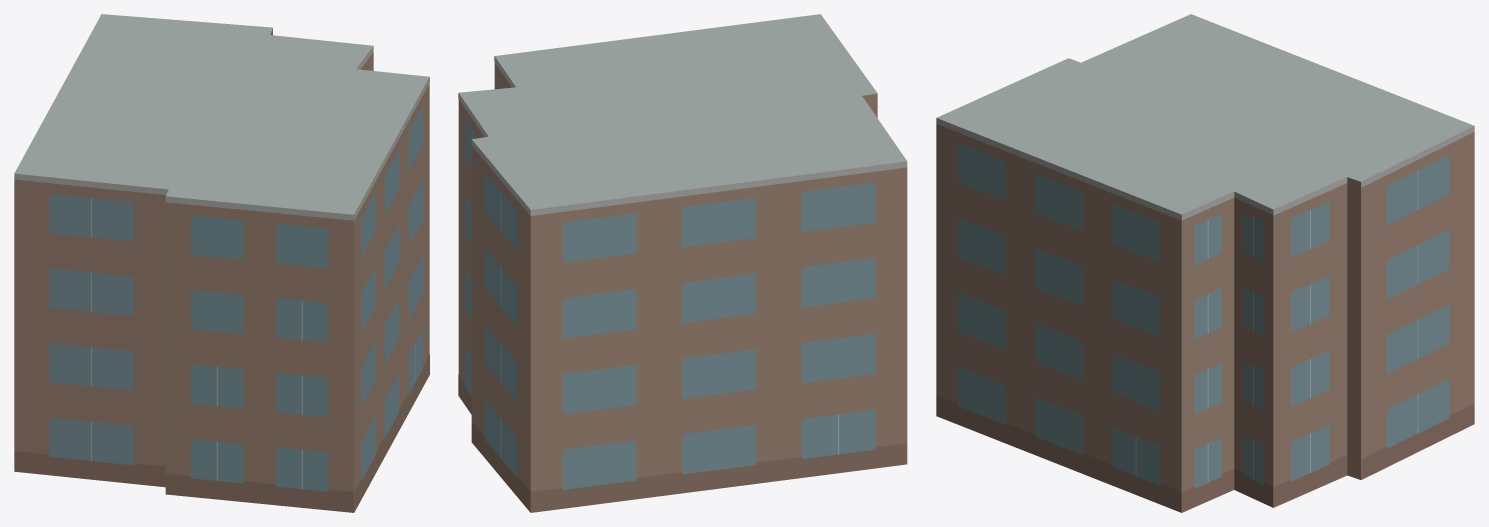
The model's file is survey-upis-32674483.glb.
The picture shows the model from 3 angles, left to right: view 1: azimuth 30°, elevation 25°; view 2: azimuth 150°, elevation 25°; view 3: azimuth 270°, elevation 25°; orthographic projection.
Visible parts, largest first — view 1: survey-upis-32674483.tmp; view 2: survey-upis-32674483.tmp; view 3: survey-upis-32674483.tmp.
Boxes of the visible parts, x1=… form: survey-upis-32674483.tmp: x1=14, y1=14, x2=429, y2=512; survey-upis-32674483.tmp: x1=458, y1=14, x2=907, y2=512; survey-upis-32674483.tmp: x1=936, y1=14, x2=1474, y2=512.
Bounding box in the file's own units: 17.61 × 12.2 × 19.96.
